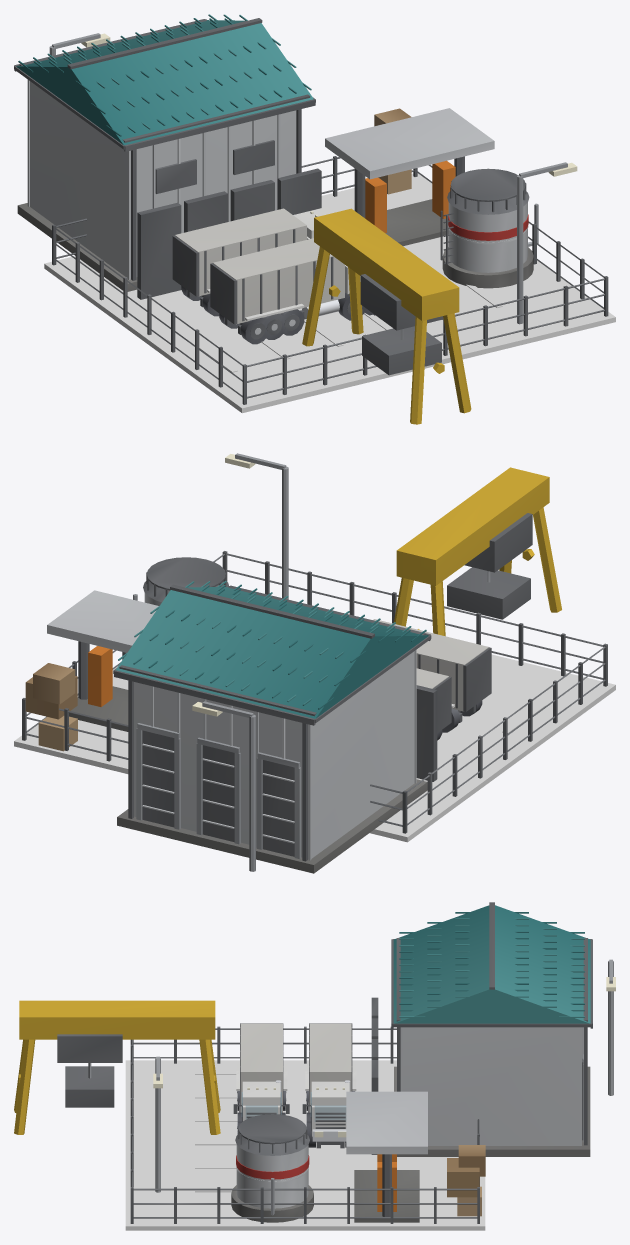
The model's file is Fleet_P3.fbx.
3 views of the same model, one above another, from view 1: azimuth 30°, elevation 25°; view 2: azimuth 150°, elevation 25°; view 3: azimuth 270°, elevation 25° (orthographic). The views are drawn at different scales.
Visible parts, largest first — view 1: Fleet.Garage, Fleet.Yard, Fleet.WashGantry, Fleet.FuelIsland, Fleet.Parked0, Fleet.FuelTank, Fleet.Doors, Fleet.Fence, Fleet.Parked1, Fleet.Lamp1, Fleet.Crates, Fleet.Bays; view 2: Fleet.Garage, Fleet.WashGantry, Fleet.Yard, Fleet.Fence, Fleet.FuelIsland, Fleet.Parked0, Fleet.Crates, Fleet.FuelTank, Fleet.Doors, Fleet.Lamp0, Fleet.Lamp1, Fleet.Parked1; view 3: Fleet.Garage, Fleet.Yard, Fleet.WashGantry, Fleet.FuelIsland, Fleet.FuelTank, Fleet.Parked1, Fleet.Fence, Fleet.Parked0, Fleet.Crates, Fleet.Lamp0, Fleet.Lamp1, Fleet.Bays (+1 smaller).
Boxes of the visible parts, left/top/right/bottom form: Fleet.Garage: left=14, top=14, right=315, bottom=291; Fleet.Yard: left=44, top=173, right=615, bottom=413; Fleet.WashGantry: left=302, top=208, right=471, bottom=424; Fleet.FuelIsland: left=325, top=108, right=494, bottom=246; Fleet.Parked0: left=210, top=238, right=374, bottom=344; Fleet.FuelTank: left=440, top=168, right=538, bottom=288; Fleet.Doors: left=137, top=168, right=321, bottom=299; Fleet.Fence: left=52, top=156, right=608, bottom=404; Fleet.Parked1: left=172, top=207, right=333, bottom=316; Fleet.Lamp1: left=517, top=162, right=577, bottom=324; Fleet.Crates: left=374, top=108, right=411, bottom=194; Fleet.Bays: left=199, top=284, right=502, bottom=372; Fleet.Garage: left=113, top=581, right=431, bottom=873; Fleet.WashGantry: left=394, top=467, right=561, bottom=636; Fleet.Yard: left=14, top=654, right=615, bottom=842; Fleet.Fence: left=22, top=551, right=607, bottom=833; Fleet.FuelIsland: left=47, top=590, right=158, bottom=731; Fleet.Parked0: left=373, top=619, right=491, bottom=732; Fleet.Crates: left=25, top=663, right=77, bottom=751; Fleet.FuelTank: left=133, top=557, right=228, bottom=605; Fleet.Doors: left=416, top=685, right=437, bottom=781; Fleet.Lamp0: left=192, top=701, right=255, bottom=871; Fleet.Lamp1: left=225, top=453, right=288, bottom=599; Fleet.Parked1: left=416, top=668, right=451, bottom=740; Fleet.Garage: left=391, top=902, right=592, bottom=1156; Fleet.Yard: left=125, top=1060, right=485, bottom=1230; Fleet.WashGantry: left=14, top=1000, right=220, bottom=1134; Fleet.FuelIsland: left=346, top=1091, right=427, bottom=1222; Fleet.FuelTank: left=231, top=1114, right=313, bottom=1222; Fleet.Parked1: left=302, top=1023, right=356, bottom=1148; Fleet.Fence: left=130, top=1026, right=479, bottom=1223; Fleet.Parked0: left=233, top=1023, right=289, bottom=1134; Fleet.Crates: left=447, top=1145, right=485, bottom=1216; Fleet.Lamp0: left=606, top=959, right=615, bottom=1095; Fleet.Lamp1: left=153, top=1056, right=162, bottom=1192; Fleet.Bays: left=195, top=1071, right=237, bottom=1192.
Size of the model in its own units: 2422 by 1183 by 3682.
